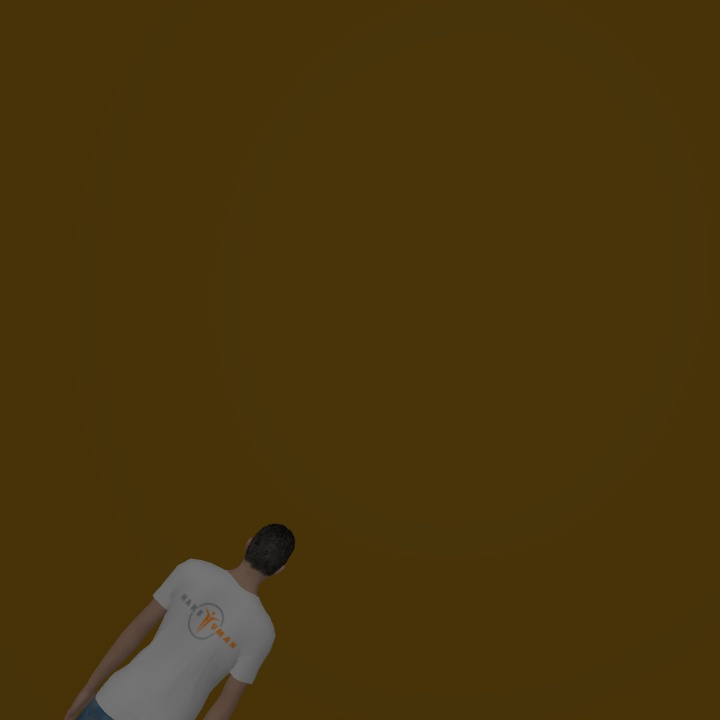victim: (66, 520, 298, 716)
